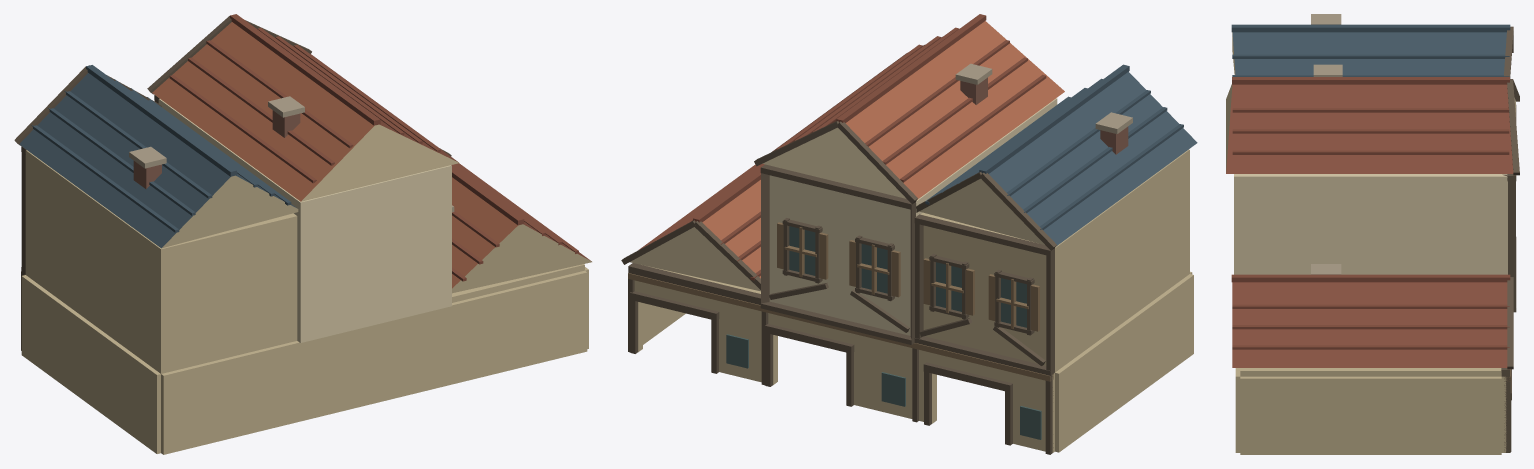
File: WalkTown_RowC_Cover.fbx
The picture shows the model from 3 angles, left to right: view 1: azimuth 30°, elevation 25°; view 2: azimuth 150°, elevation 25°; view 3: azimuth 270°, elevation 25°; orthographic projection. The views are drawn at different scales.
Visible parts, largest first — view 1: OpenBuildings_WalkTown_RowC_Cover; view 2: OpenBuildings_WalkTown_RowC_Cover; view 3: OpenBuildings_WalkTown_RowC_Cover.
Boxes of the visible parts, x1=… form: OpenBuildings_WalkTown_RowC_Cover: x1=14, y1=14, x2=591, y2=454; OpenBuildings_WalkTown_RowC_Cover: x1=621, y1=14, x2=1197, y2=454; OpenBuildings_WalkTown_RowC_Cover: x1=1226, y1=14, x2=1519, y2=454.
Bounding box in the file's own units: 11.48 × 7.18 × 6.97.
